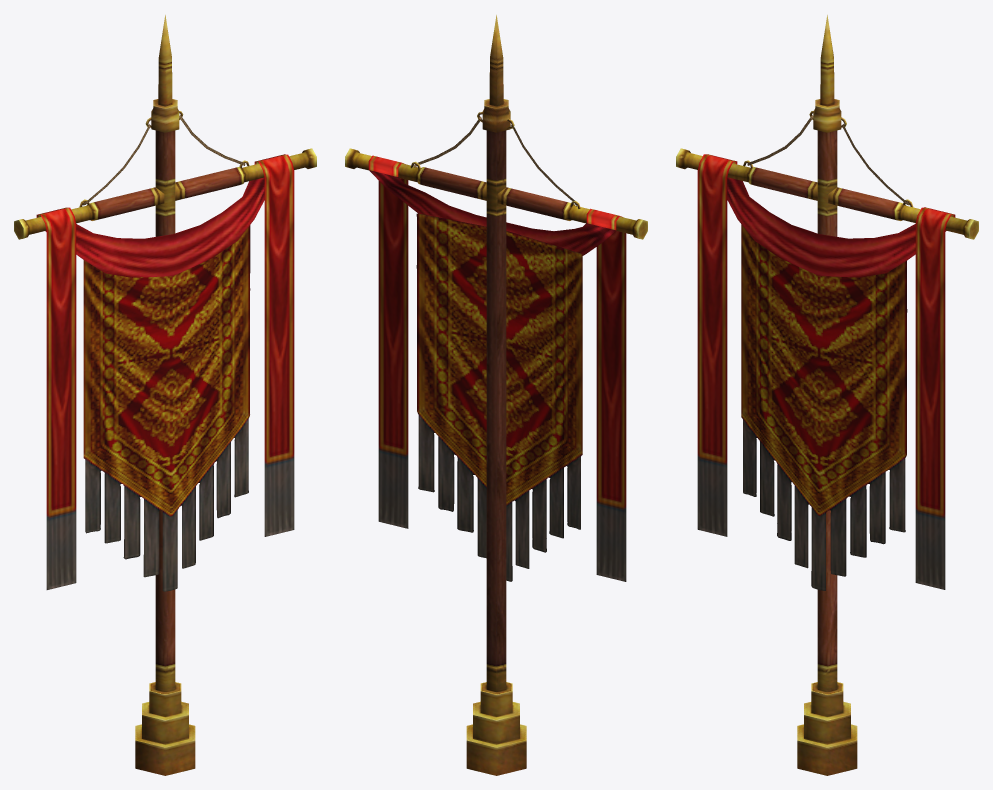
File: Stage_DiXiaCheng_QiZi01.FBX
3 renders of one model, left to right at view 1: azimuth 30°, elevation 25°; view 2: azimuth 150°, elevation 25°; view 3: azimuth 330°, elevation 25°, orthographic.
Parts seen in each view (by area): view 1: Stage_DiXiaCheng_QiZi01; view 2: Stage_DiXiaCheng_QiZi01; view 3: Stage_DiXiaCheng_QiZi01.
Boxes of the visible parts, x1,y1,x2,y2 form: Stage_DiXiaCheng_QiZi01: (14, 15, 316, 775); Stage_DiXiaCheng_QiZi01: (345, 15, 647, 775); Stage_DiXiaCheng_QiZi01: (676, 15, 978, 775).
Size of the model in its own units: 218 by 530 by 38.5.
